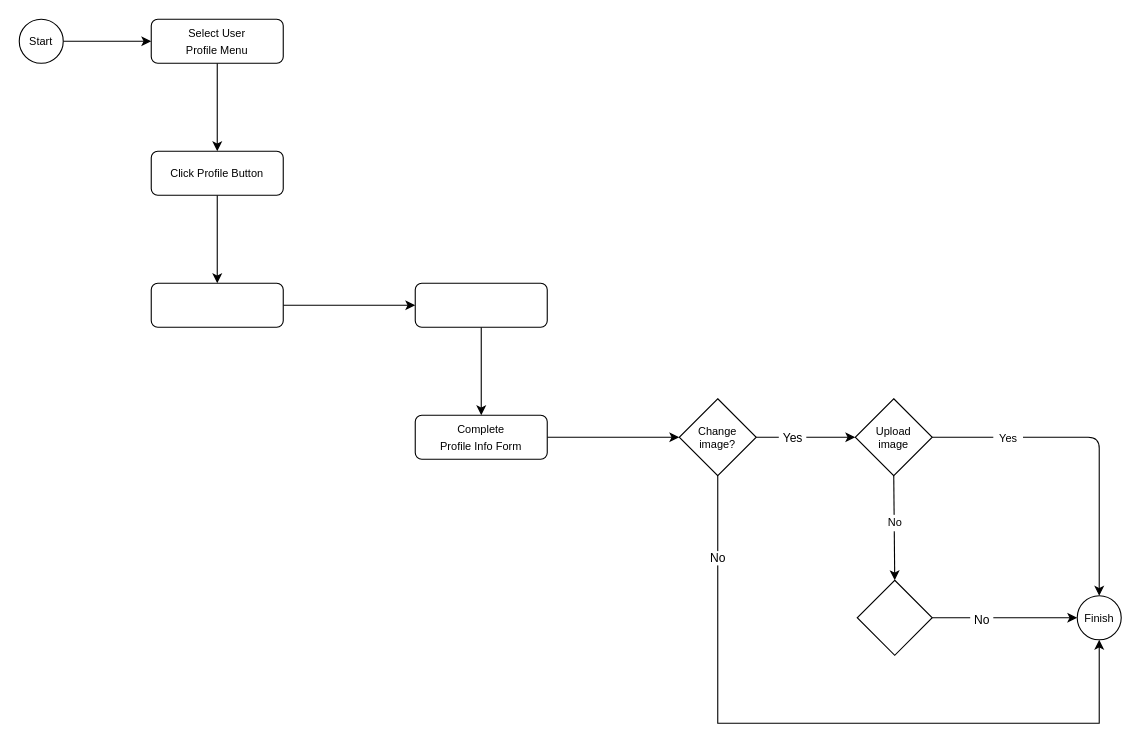
Some shapes in this 1141 by 751 pixel diagram are drawn without their labels. Here are the shapes that lost their labels. From the top down, the centre of each, then its label:
(216,304): Click Edit Profile Button
(480,304): Proceed to Profile Info Form
(894,617): Take photo
